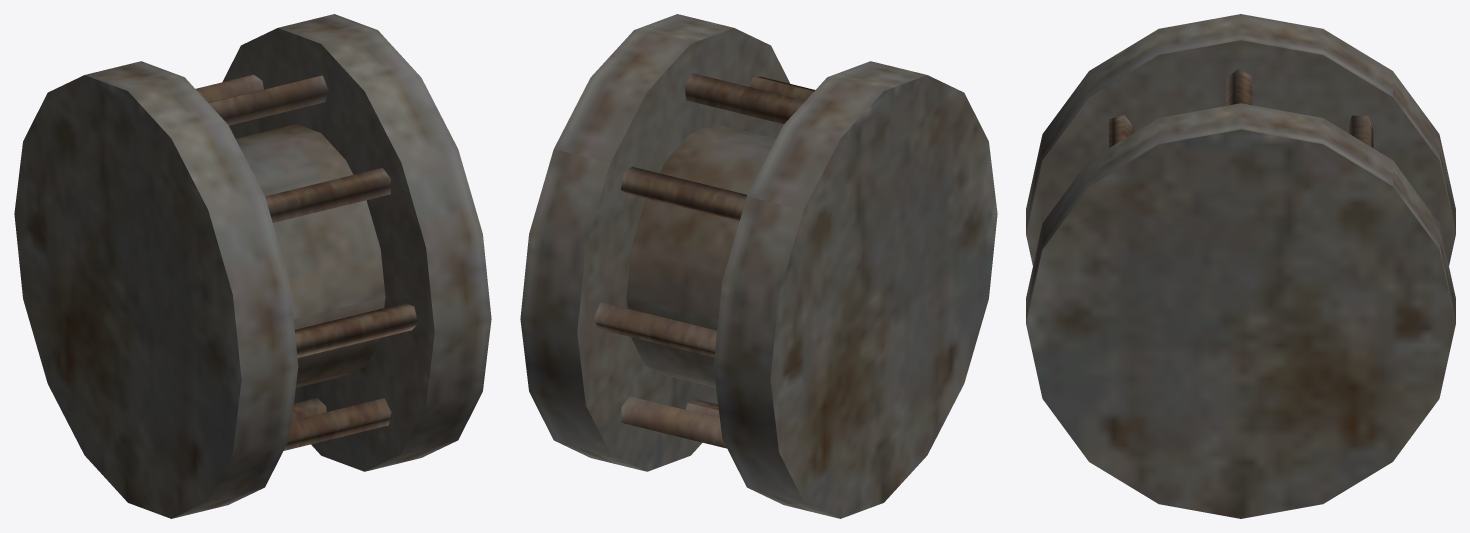
Rendered from nt_2020_pipes_modular_clampc_LOD0.obj.
3 renders of one model, left to right at view 1: azimuth 30°, elevation 25°; view 2: azimuth 150°, elevation 25°; view 3: azimuth 270°, elevation 25°, orthographic. The views are drawn at different scales.
Visible parts, largest first — view 1: mtl_nt_2020_pipes_modular_blue; view 2: mtl_nt_2020_pipes_modular_blue; view 3: mtl_nt_2020_pipes_modular_blue.
Part boxes in pixels (x1=…): mtl_nt_2020_pipes_modular_blue: x1=14, y1=14, x2=491, y2=518; mtl_nt_2020_pipes_modular_blue: x1=520, y1=14, x2=997, y2=518; mtl_nt_2020_pipes_modular_blue: x1=1026, y1=14, x2=1455, y2=518.
Size of the model in its own units: 34.07 by 53.61 by 53.61.
